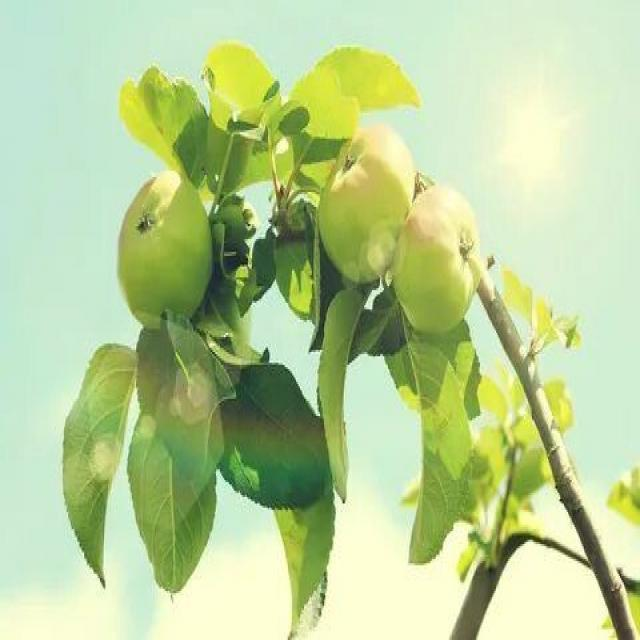Fresh Apple: (122, 177, 218, 335), (313, 133, 410, 272)
